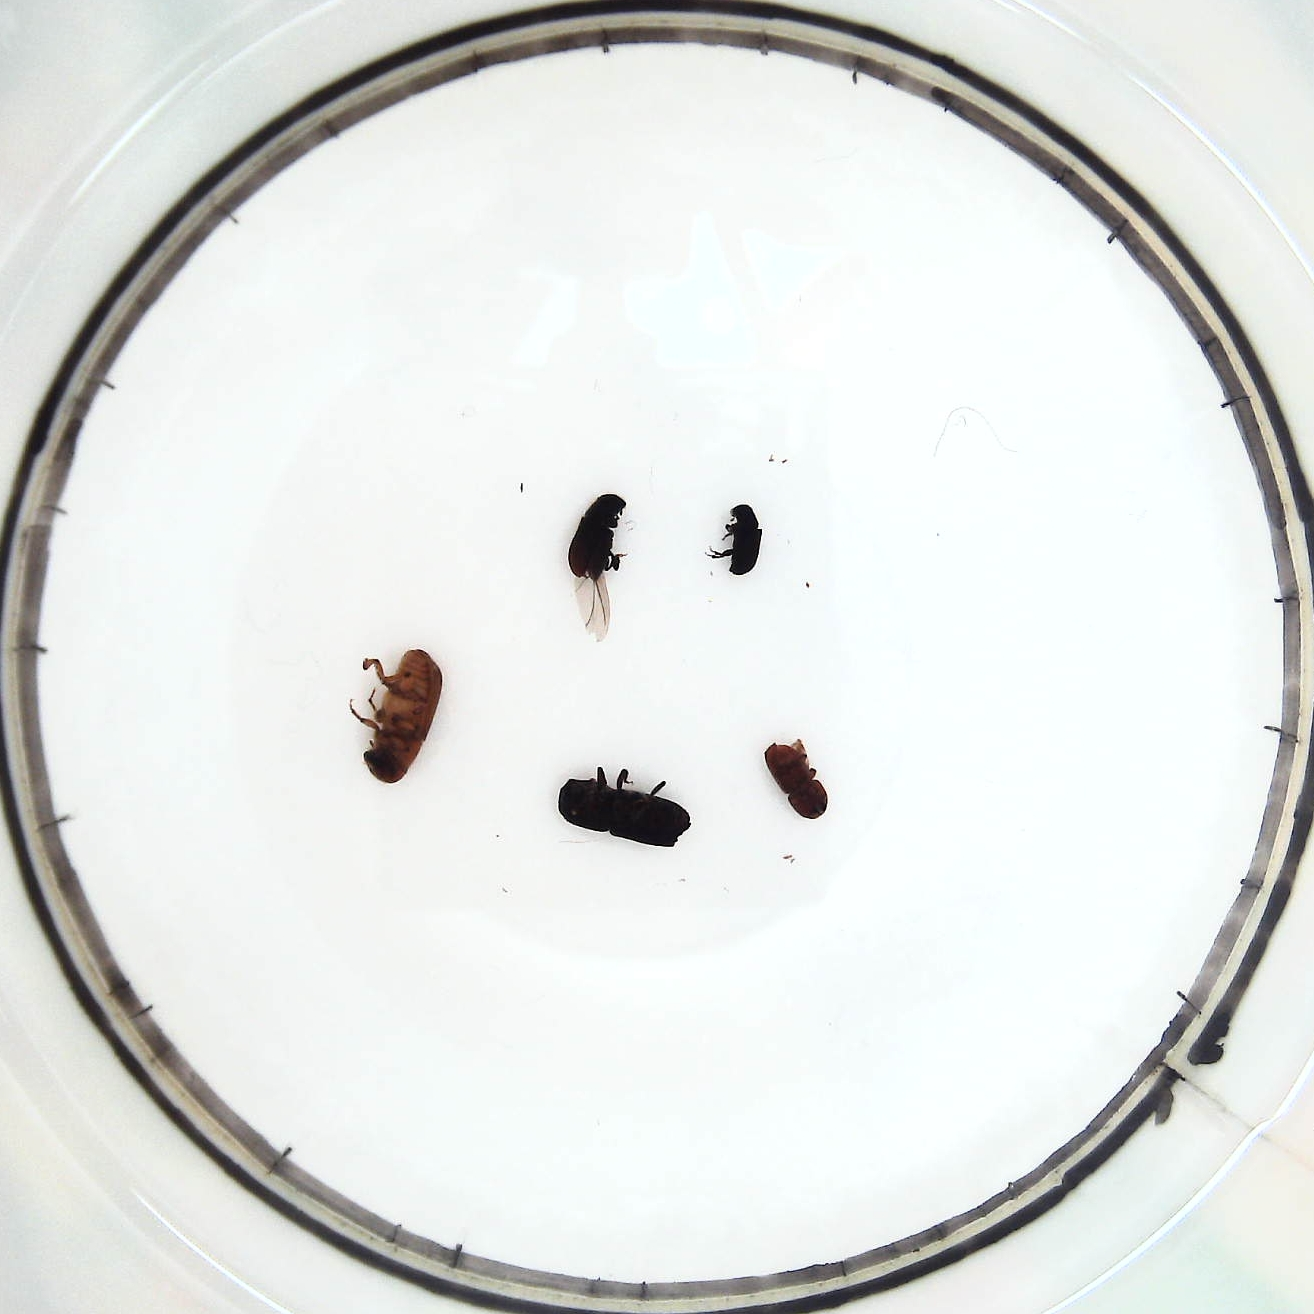Boerner: (552, 762, 696, 864)
Leconte: (353, 640, 452, 791)
armandi: (564, 486, 632, 632)
coleoptera: (703, 501, 764, 584)
linnaeus: (760, 732, 831, 827)
